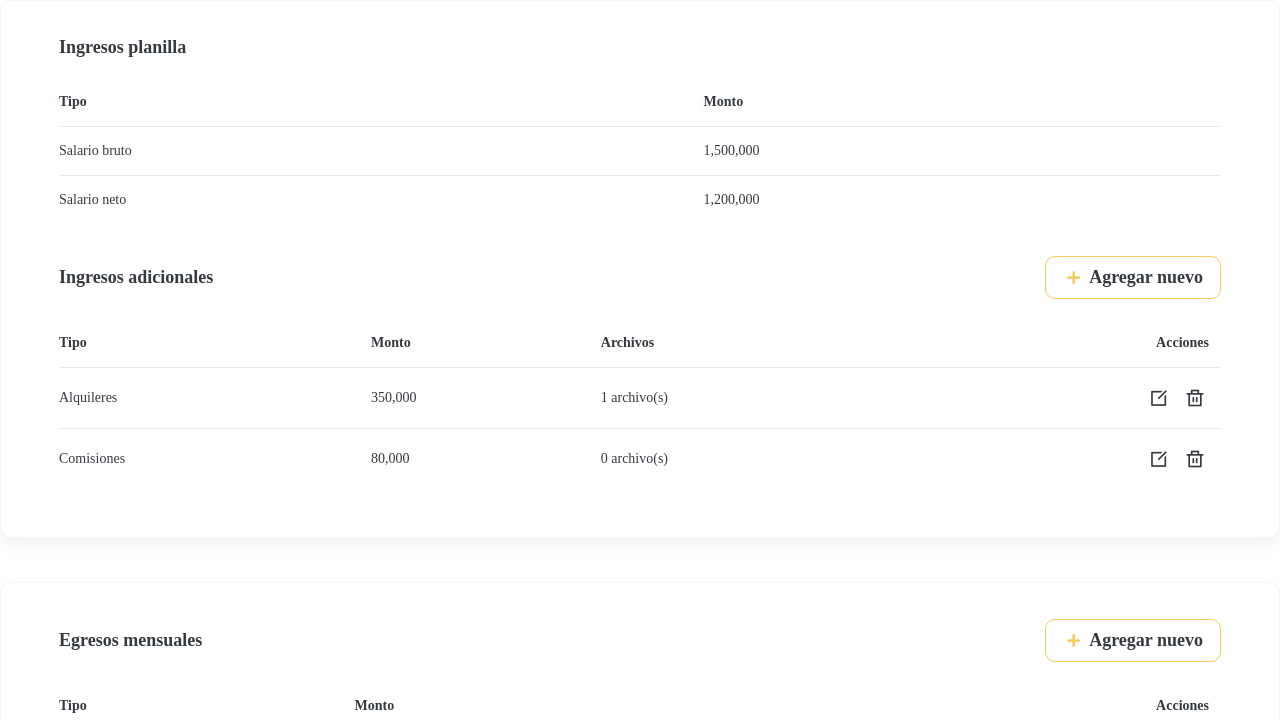
Scenario: IncomeExpenses (paso 3) › ingresos adicionales › removes an income and confirms with a notification
Click the button named "Eliminar ingreso Comisiones". click: click(1195, 459)
box: [1181,445,1209,473]
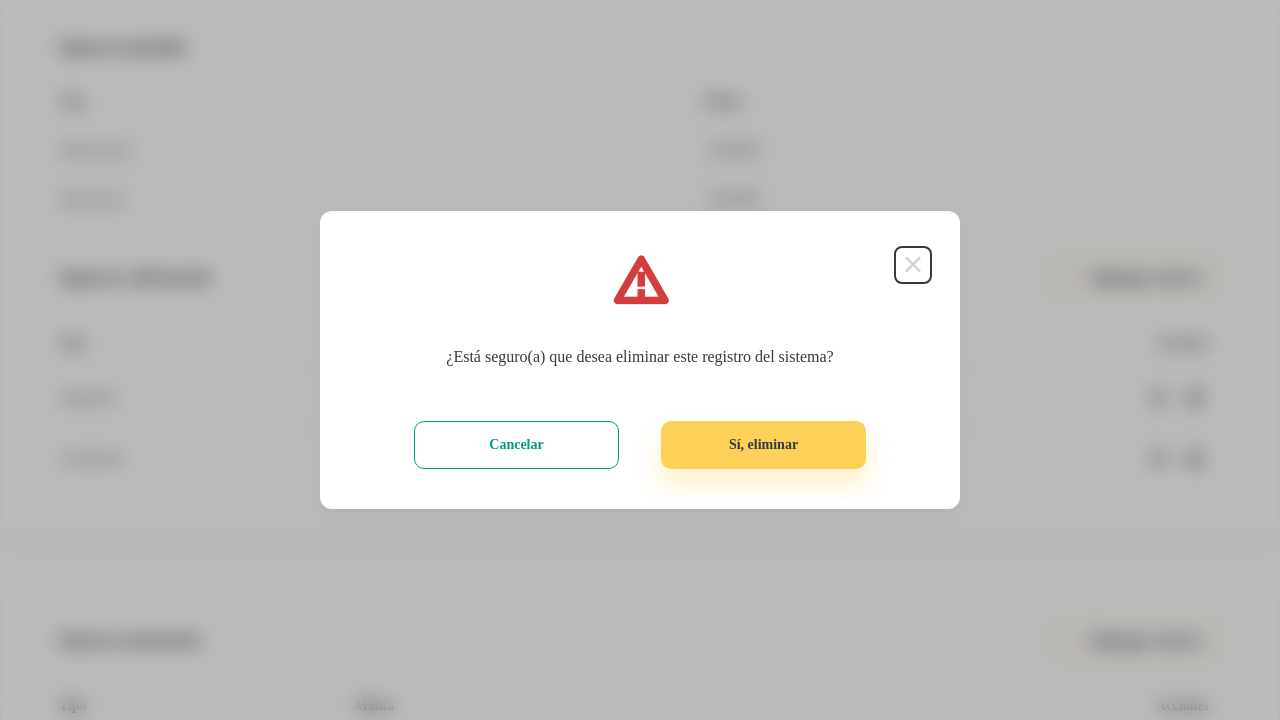
Click the button "Sí, eliminar". click: click(764, 445)
box: [661,421,866,469]
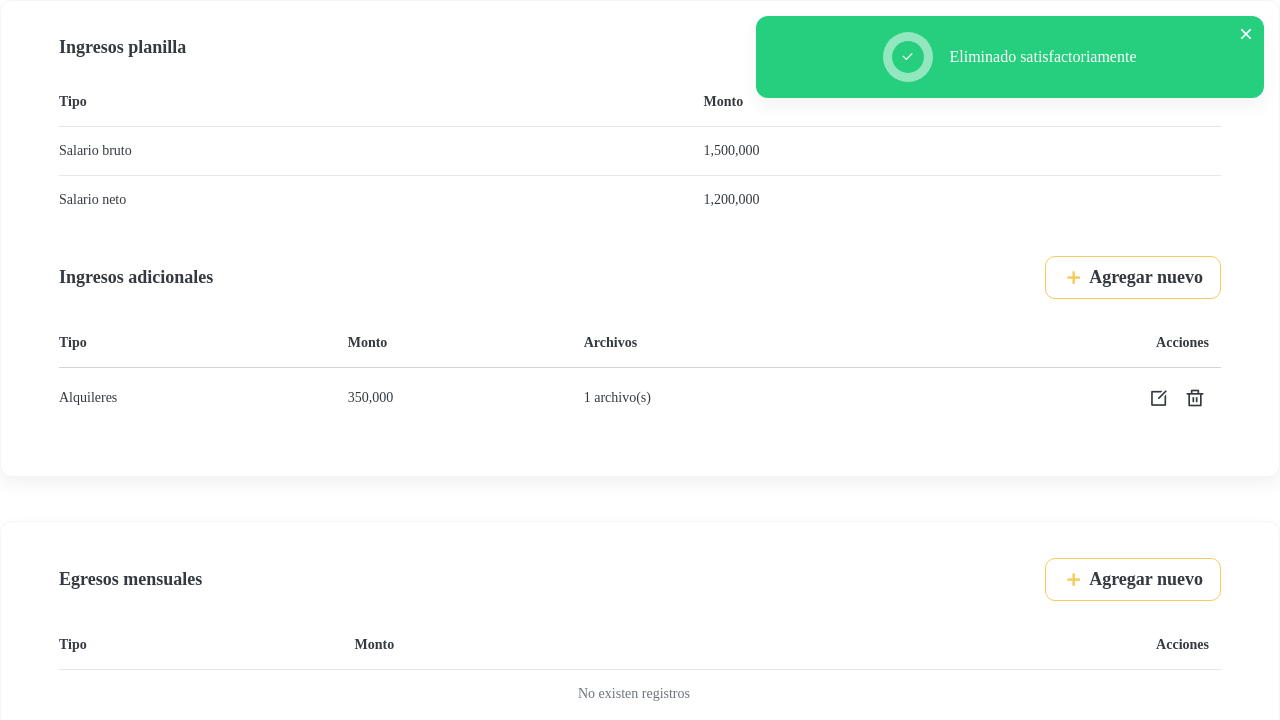
Expected: the text "350,000" is shown, [348,368,584,428]
Expected: the text "80,000" is gone
Expected: the text "Eliminado satisfactoriamente" is shown, [950,47,1136,67]
